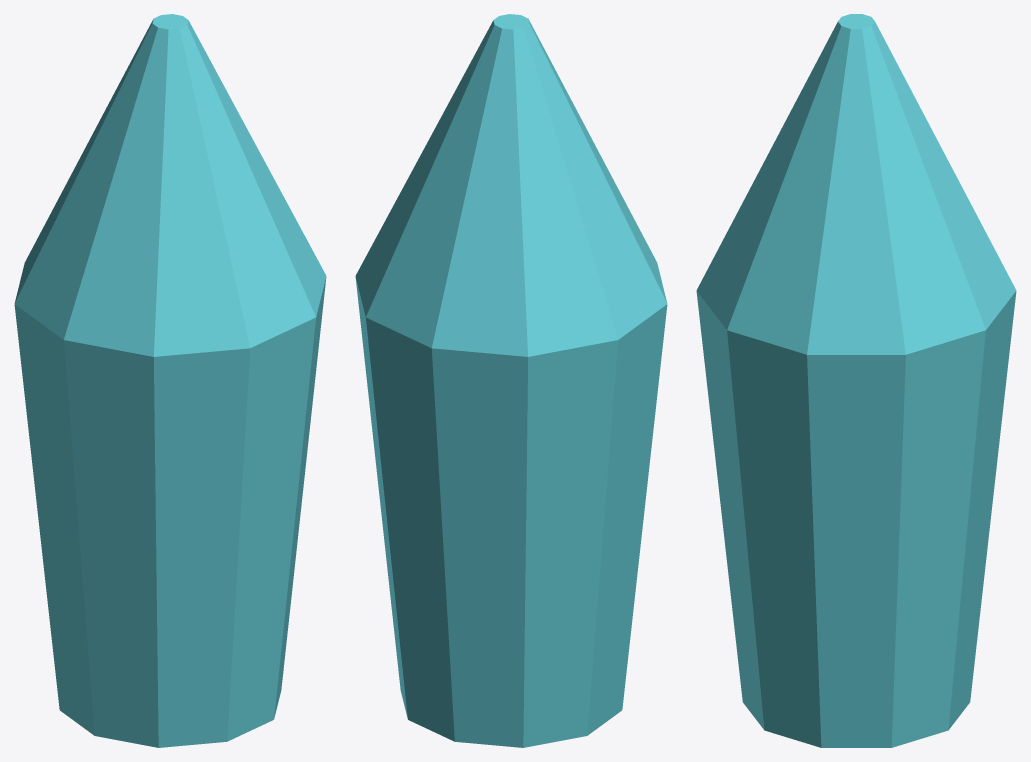
Rendered from kek.glb.
The picture shows the model from 3 angles, left to right: view 1: azimuth 30°, elevation 25°; view 2: azimuth 150°, elevation 25°; view 3: azimuth 270°, elevation 25°; orthographic projection.
Visible parts, largest first — view 1: Cylinder; view 2: Cylinder; view 3: Cylinder.
Part boxes in pixels (bbox=[...]): Cylinder: bbox=[14, 14, 326, 747]; Cylinder: bbox=[355, 14, 667, 747]; Cylinder: bbox=[696, 14, 1016, 747].
Size of what is drawn, in the model's own units: 0.4559 by 1.13 by 0.4794.
